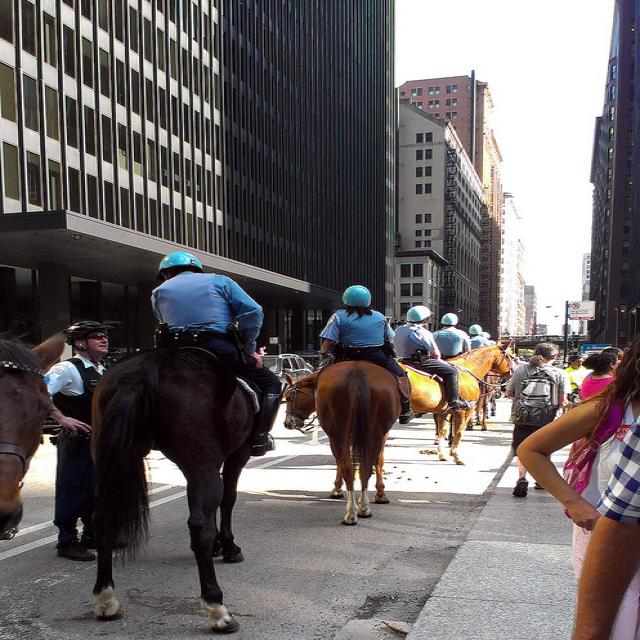Vehicle: (262, 354, 316, 393)
